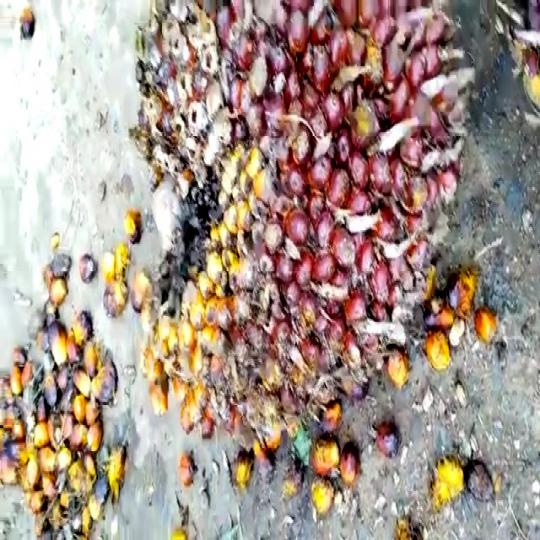kurang masak: (133, 0, 477, 434)
